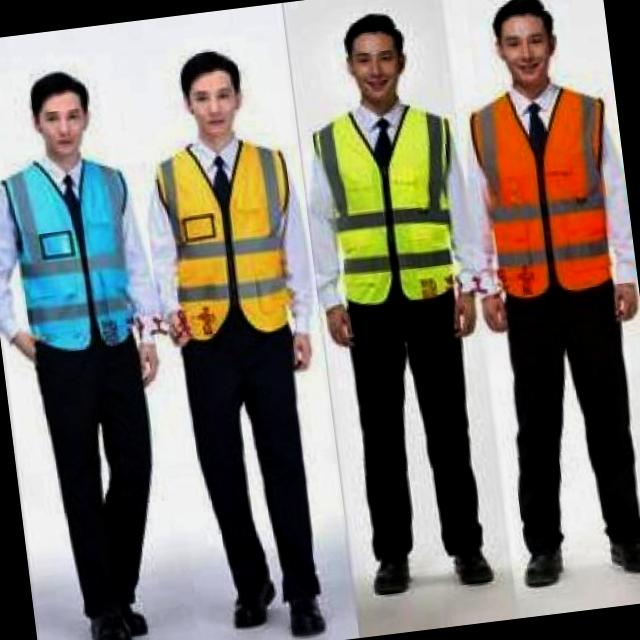vest: (478, 82, 624, 302), (152, 136, 298, 342), (325, 102, 460, 304), (5, 161, 136, 360)
